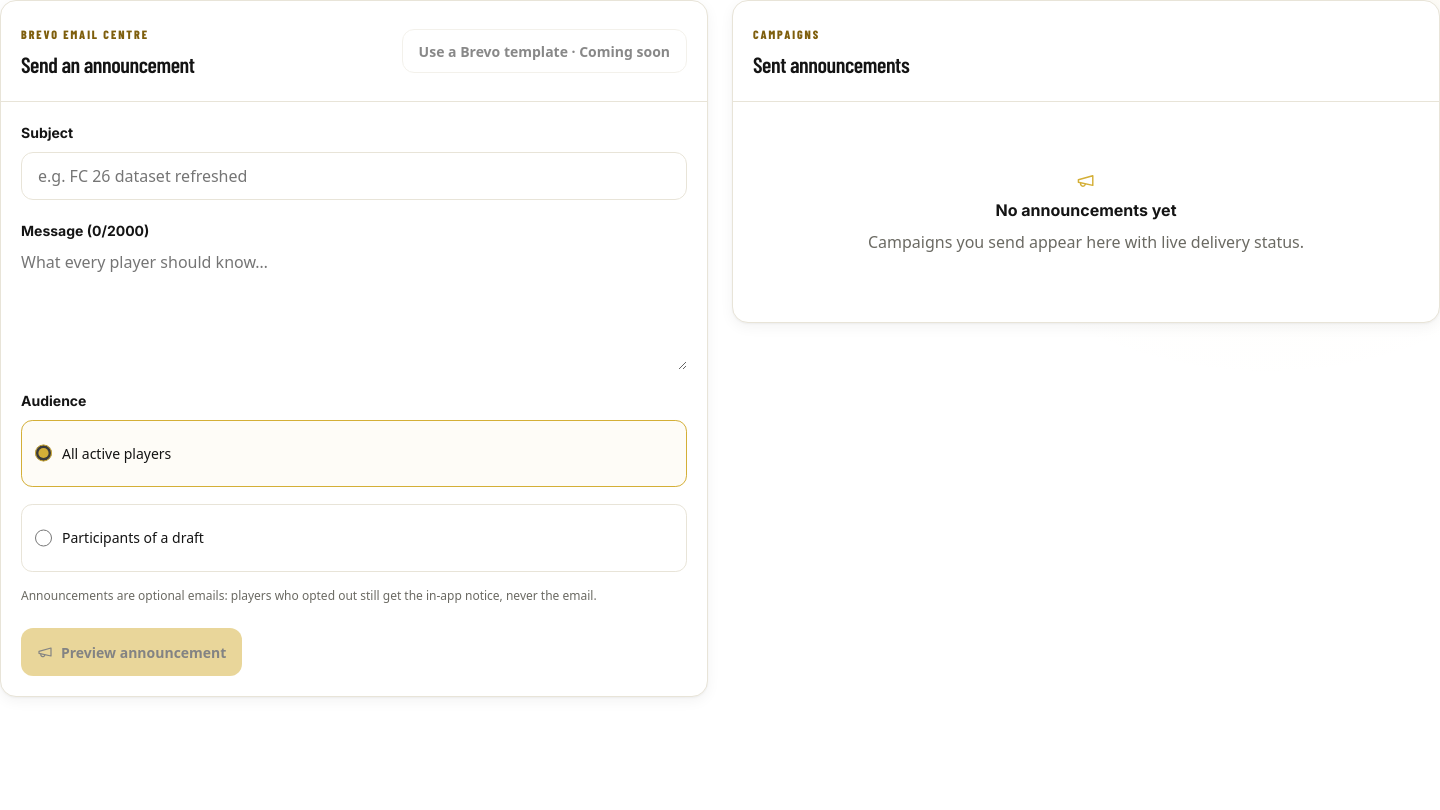
AdminCommunicationsPage (PR-21 §9.8) › walks compose → preview → explicit confirmation, sending the previewed recipient count
Type "Season 2 opens" into the field labelled "Subject" at (354, 176), box [21,152,687,200]
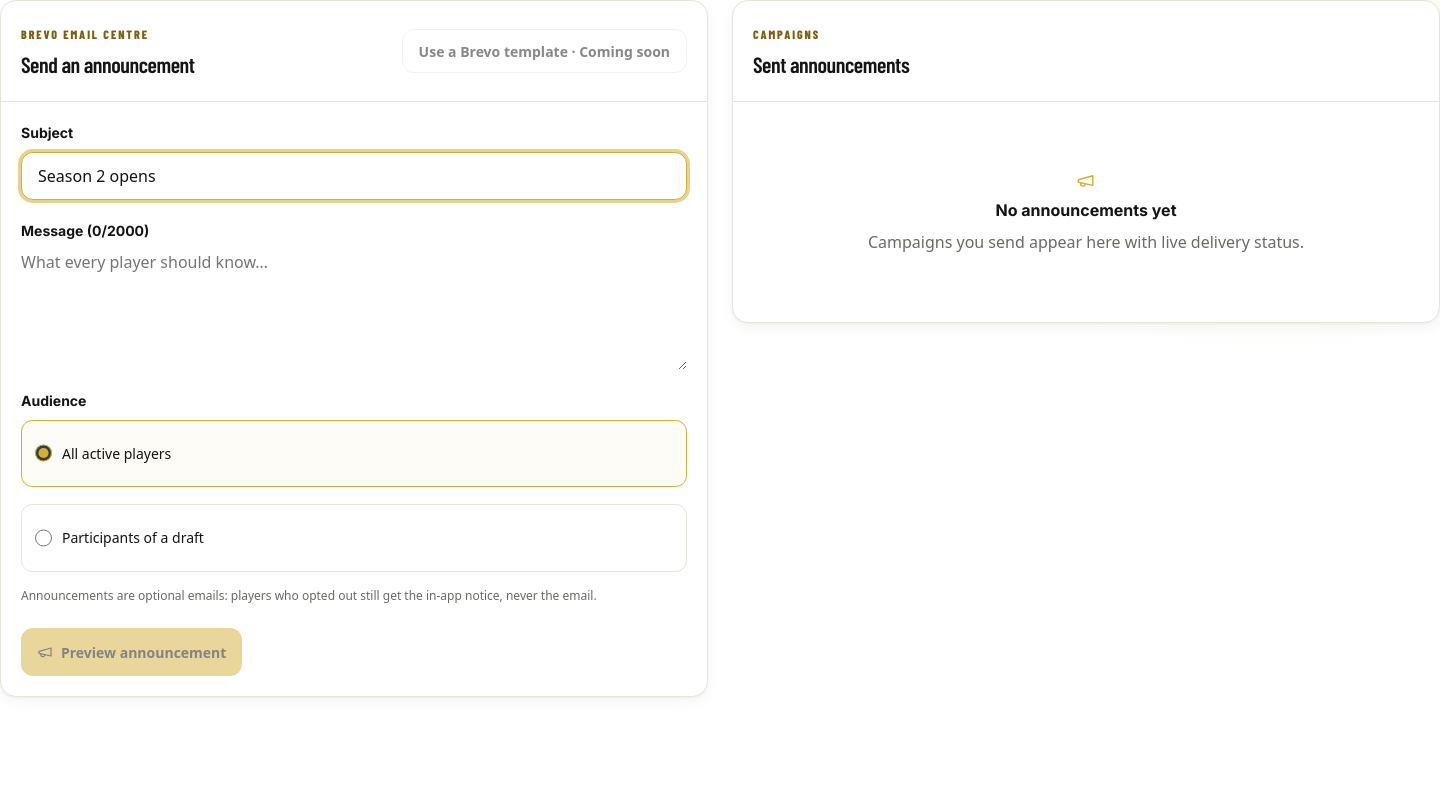
Type "New dataset live." into the text box labelled "Message (0/2000)" at (354, 310), box [21,250,687,370]
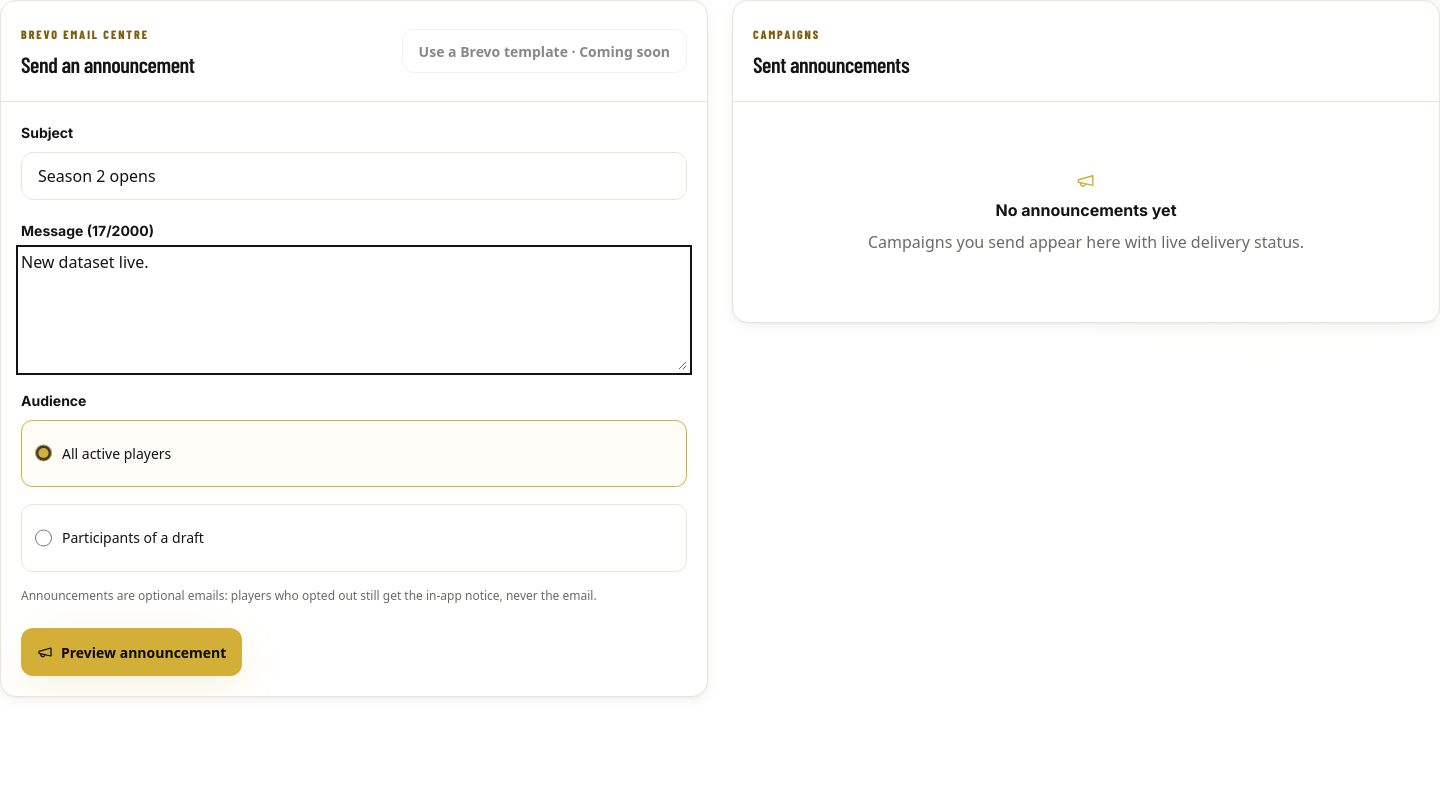
Click the button "Preview announcement" at (132, 652), box [21,628,242,676]
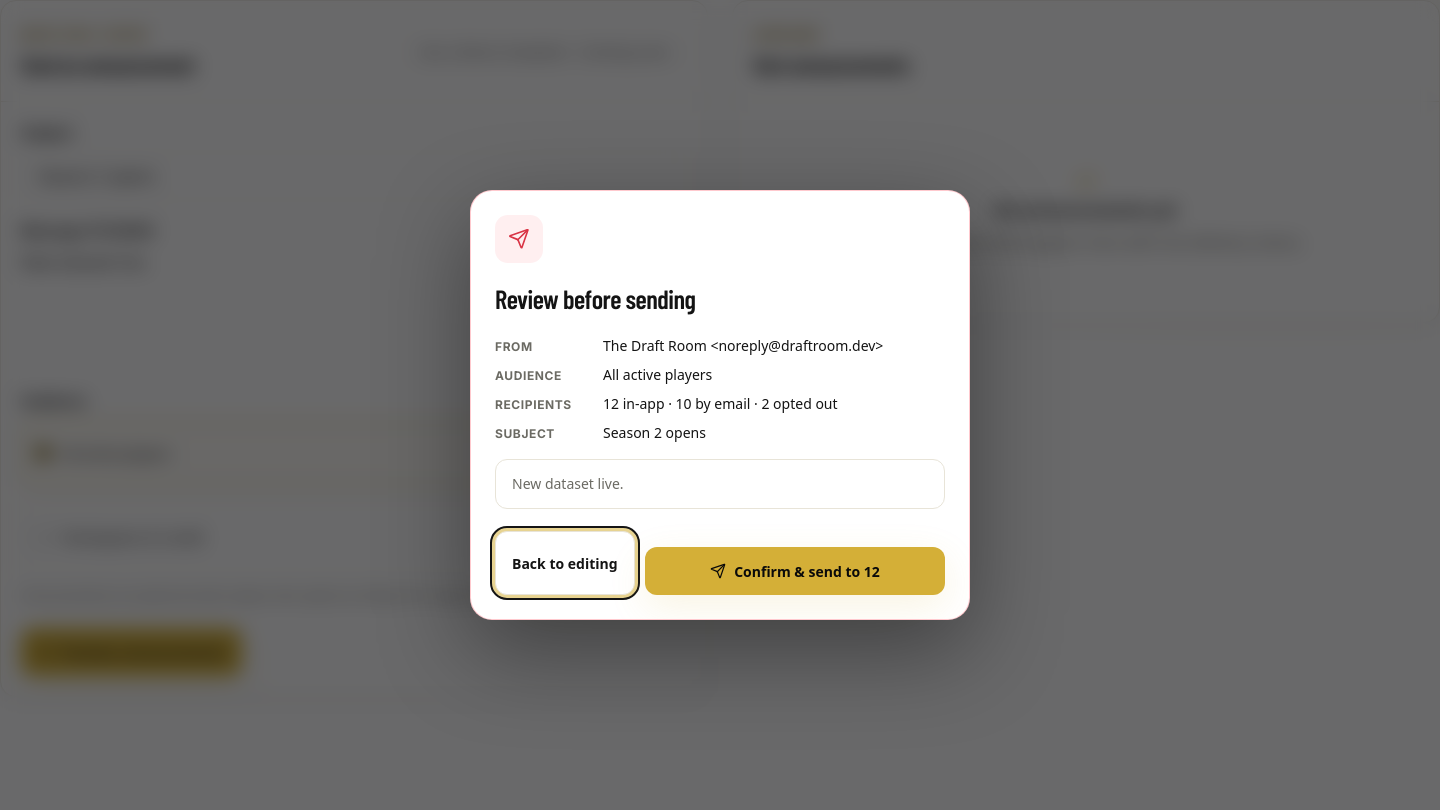
Now the text "The Draft Room <noreply@draftroom.dev>" is shown, box [603,336,883,355]
Now the text "All active players" is shown, box [603,365,712,384]
Now the text "12 in-app · 10 by email · 2 opted out" is shown, box [603,394,838,413]
Click the button "Confirm & send to 12" at (795, 571), box [645,547,945,595]
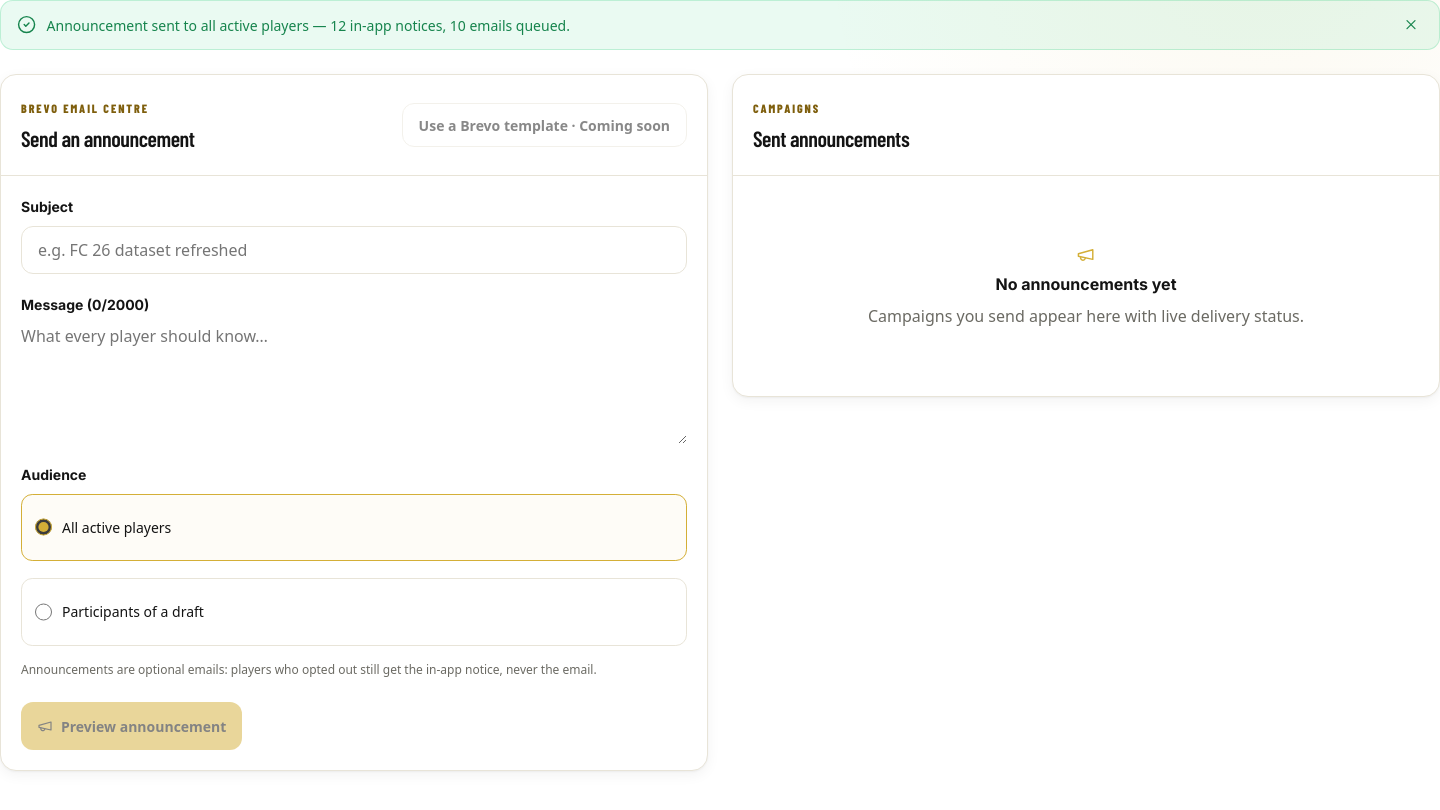
Now the text "Announcement sent to all active players" is shown, box [47,16,570,34]
